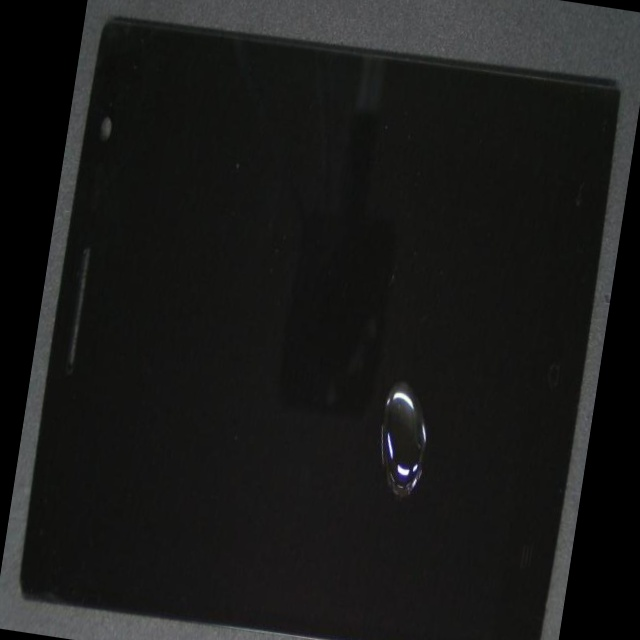oil: (213, 184, 620, 637)
